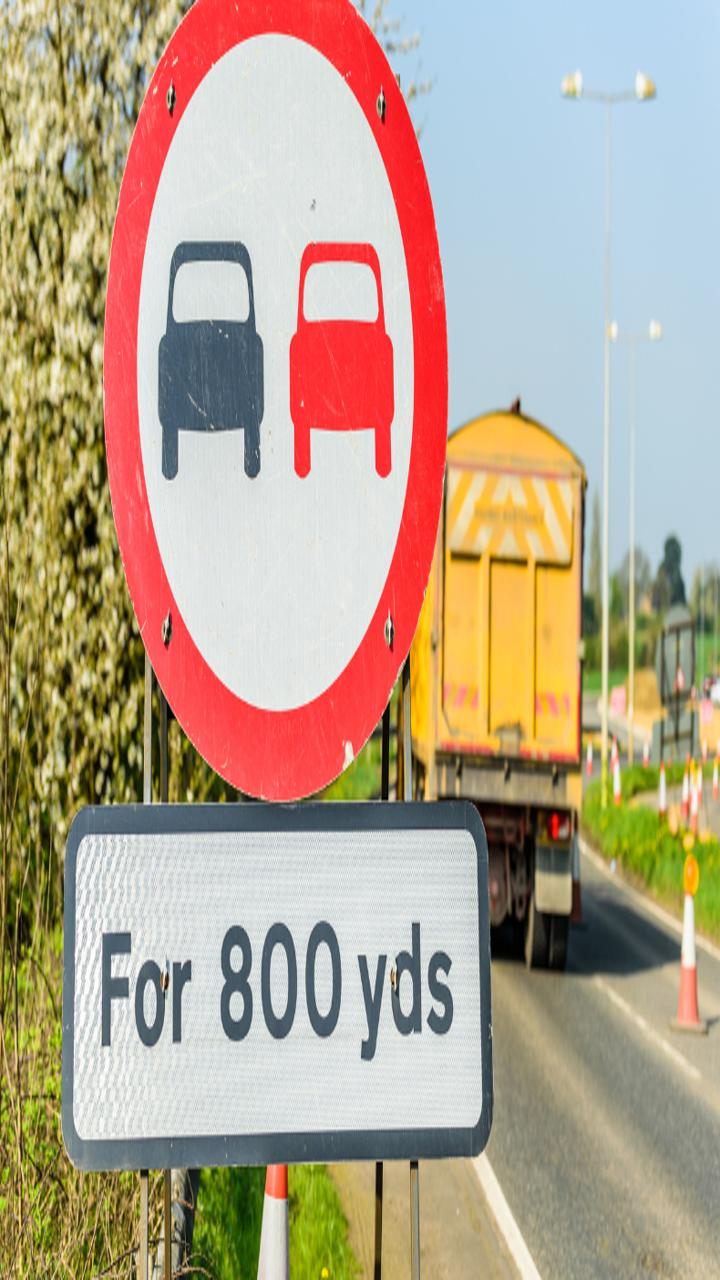Traffic sign: (72, 4, 456, 787), (26, 812, 507, 1175)
vehicle: (436, 404, 642, 961)
